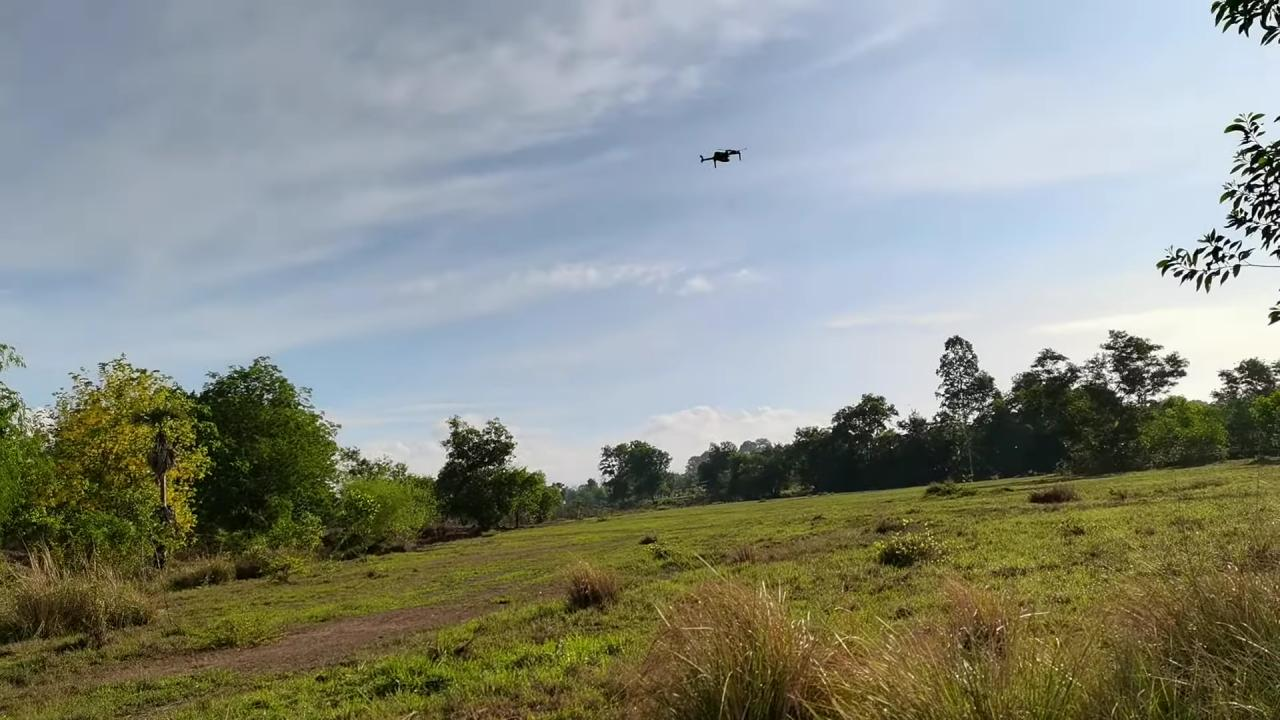Drone: (692, 138, 754, 173)
